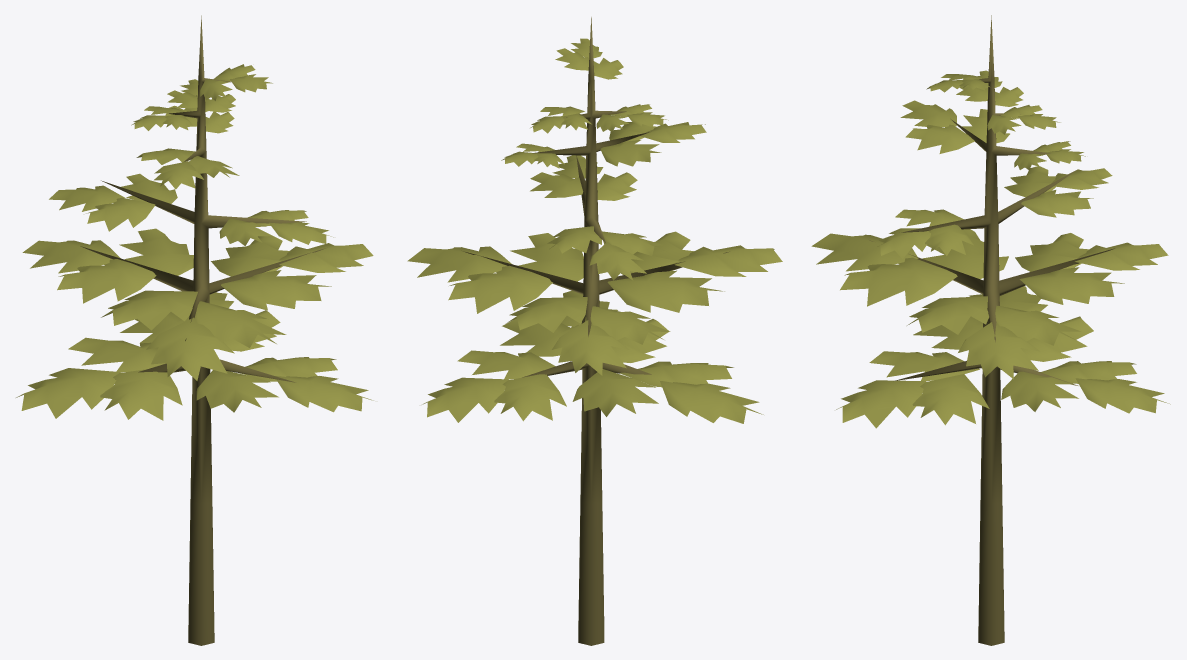
The model's file is tree_03.fbx.
The picture shows the model from 3 angles, left to right: view 1: azimuth 30°, elevation 25°; view 2: azimuth 150°, elevation 25°; view 3: azimuth 270°, elevation 25°; orthographic projection.
Parts seen in each view (by area): view 1: tree_03_leaves_mesh, tree_03_stump_mesh; view 2: tree_03_leaves_mesh, tree_03_stump_mesh; view 3: tree_03_leaves_mesh, tree_03_stump_mesh.
Boxes of the visible parts, bbox=[...] form: tree_03_leaves_mesh: bbox=[16, 64, 373, 420]; tree_03_stump_mesh: bbox=[80, 15, 325, 645]; tree_03_leaves_mesh: bbox=[407, 38, 782, 423]; tree_03_stump_mesh: bbox=[463, 17, 729, 645]; tree_03_leaves_mesh: bbox=[811, 70, 1170, 428]; tree_03_stump_mesh: bbox=[869, 15, 1114, 645].
Size of the model in its own units: 20.21 by 34.52 by 18.09.
